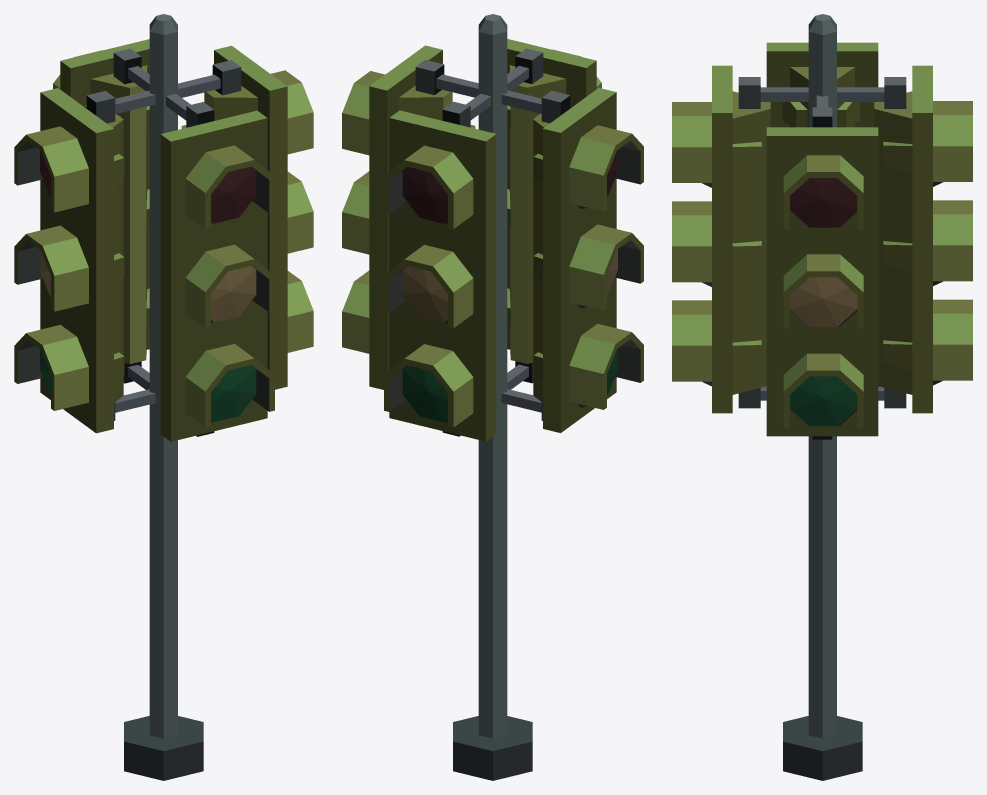
Rendered from TB_CITY_Prop_TrafficLight_4Set_Green.FBX.
3 views of the same model, side by side, from view 1: azimuth 30°, elevation 25°; view 2: azimuth 150°, elevation 25°; view 3: azimuth 270°, elevation 25° (orthographic).
Parts seen in each view (by area): view 1: TB_CITY_Prop_TrafficLight_4Set_Green; view 2: TB_CITY_Prop_TrafficLight_4Set_Green; view 3: TB_CITY_Prop_TrafficLight_4Set_Green.
Part boxes in pixels (box(x1,y1,x2,y2)): TB_CITY_Prop_TrafficLight_4Set_Green: box(14, 14, 313, 780); TB_CITY_Prop_TrafficLight_4Set_Green: box(342, 14, 643, 780); TB_CITY_Prop_TrafficLight_4Set_Green: box(672, 14, 972, 780).
Size of the model in its own units: 2.76 by 7.53 by 2.76.
